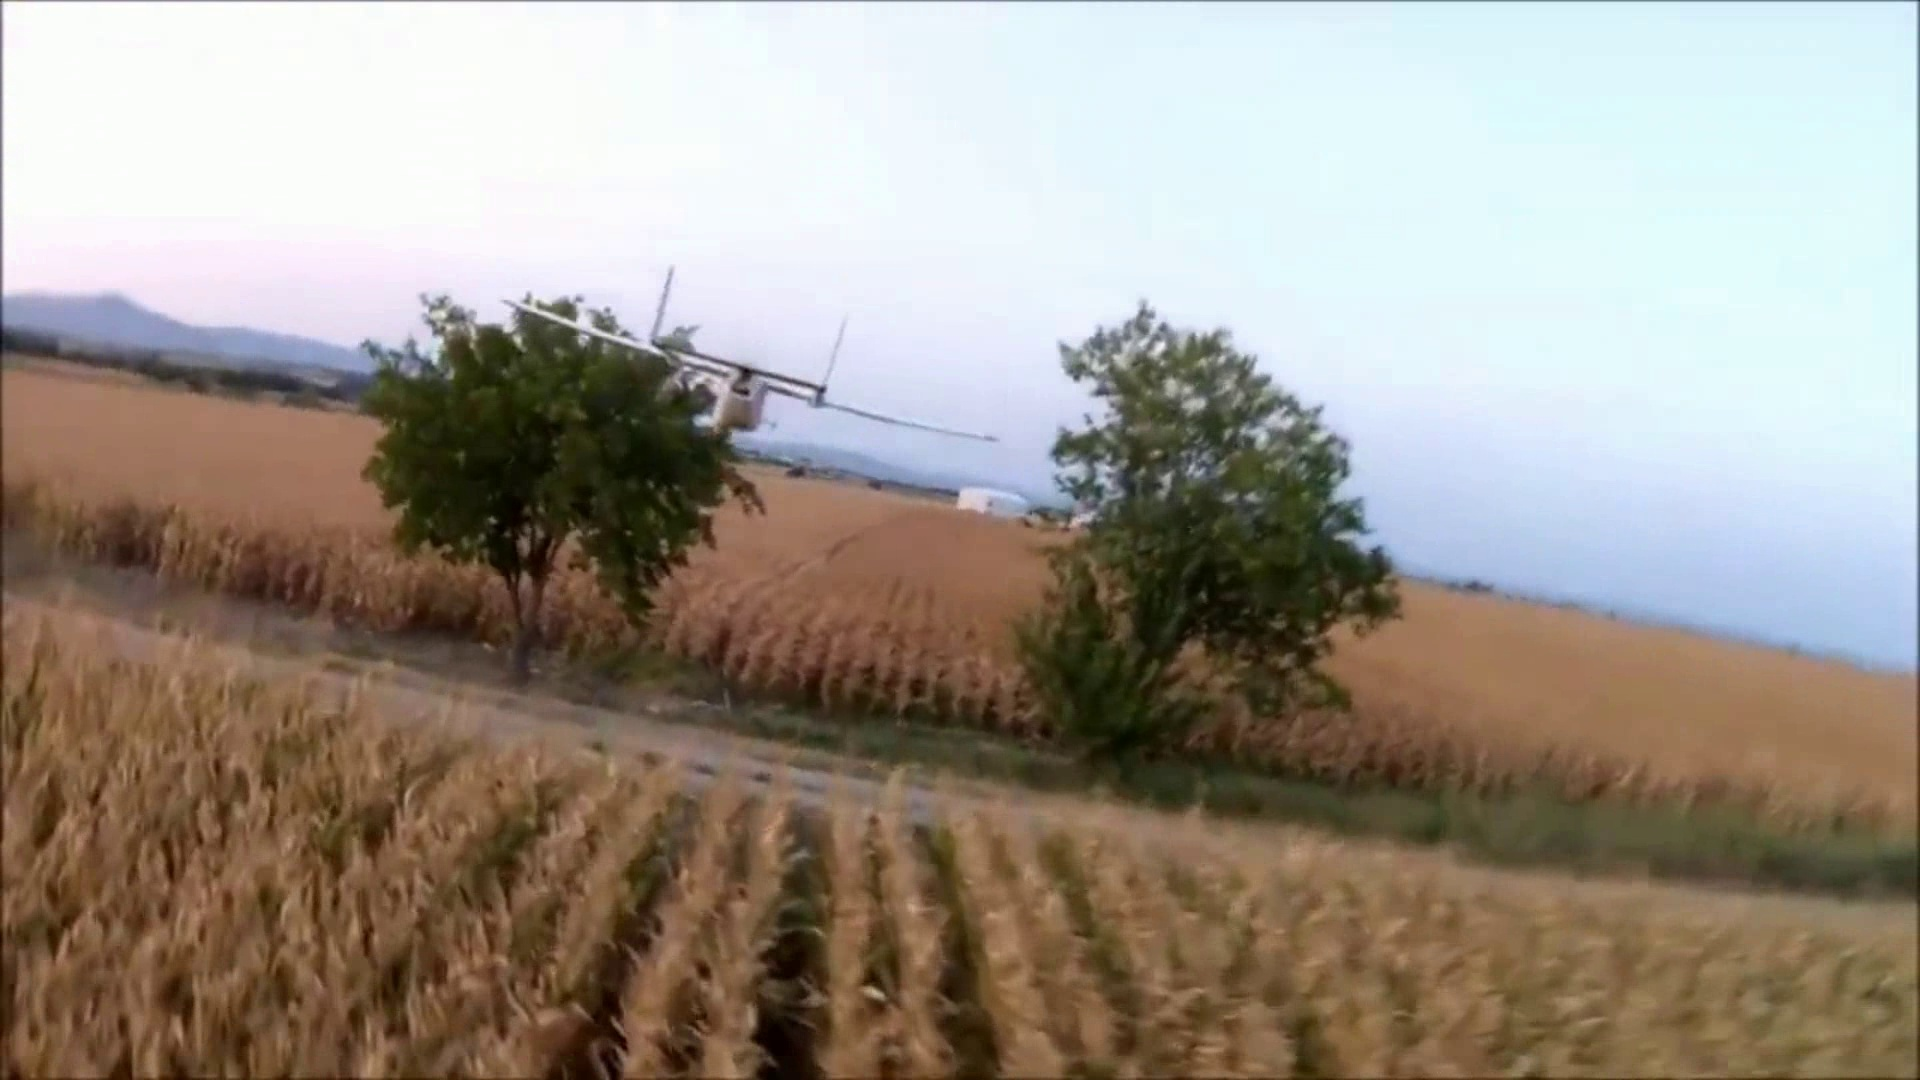airplane: (515, 261, 1090, 527)
